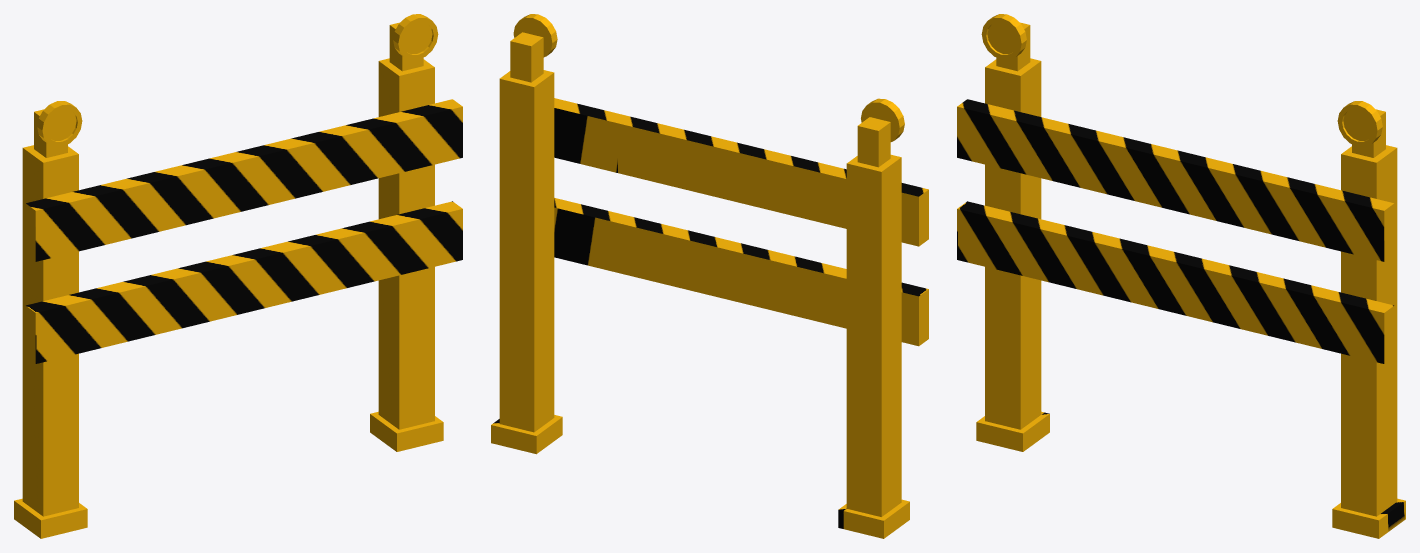
The model's file is Road Block.fbx.
3 views of the same model, side by side, from view 1: azimuth 30°, elevation 25°; view 2: azimuth 150°, elevation 25°; view 3: azimuth 330°, elevation 25° (orthographic). The views are drawn at different scales.
Visible parts, largest first — view 1: Cube; view 2: Cube; view 3: Cube.
Boxes of the visible parts, x1,y1,x2,y2 form: Cube: (14,14,462,538); Cube: (491,14,928,538); Cube: (957,14,1405,538).
Size of the model in its own units: 240 by 33.11 by 229.
